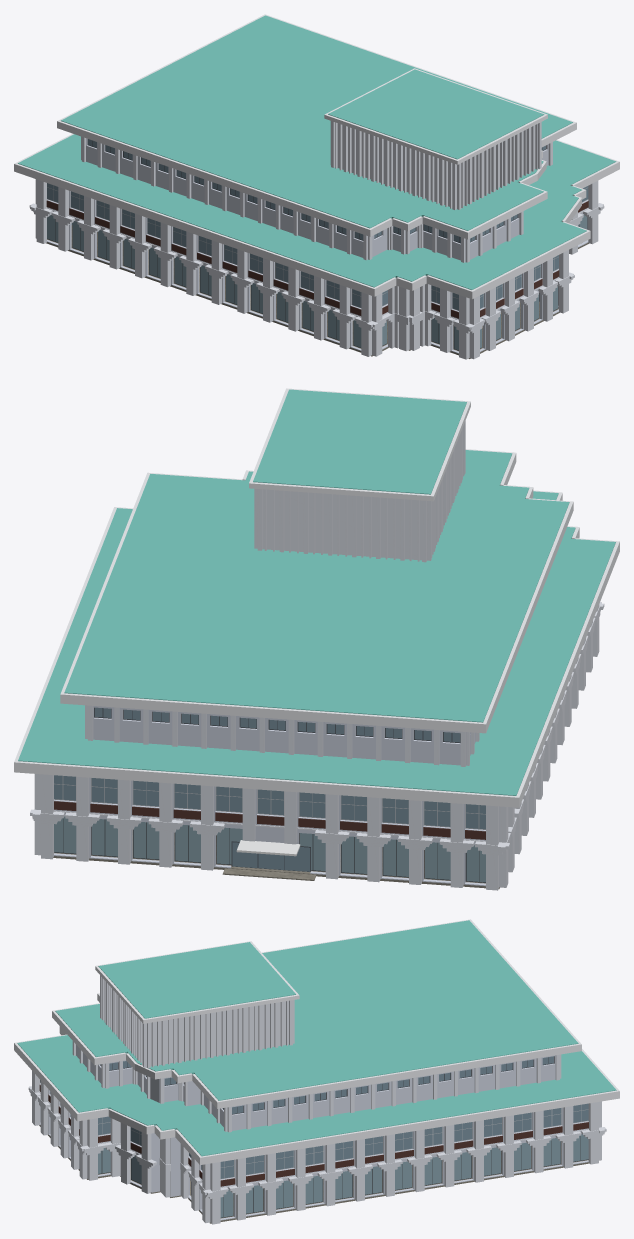
3 views of the same model, one above another, from view 1: azimuth 30°, elevation 25°; view 2: azimuth 150°, elevation 25°; view 3: azimuth 270°, elevation 25° (orthographic). The views are drawn at different scales.
Parts seen in each view (by area): view 1: uac__greenroof, uac__pier, uac__fascia, uac__white, uac__glass, uac__hallglass, uac__spandrel, uac__darkframe, uac__stone, uac__frame; view 2: uac__greenroof, uac__pier, uac__fascia, uac__white, uac__glass, uac__hallglass, uac__spandrel, uac__darkframe, uac__frame, uac__stone, uac__canopy; view 3: uac__greenroof, uac__pier, uac__fascia, uac__white, uac__glass, uac__hallglass, uac__spandrel, uac__darkframe, uac__stone, uac__frame.
Boxes of the visible parts, x1=… form: uac__greenroof: x1=18, y1=15, x2=616, y2=289; uac__pier: x1=29, y1=121, x2=604, y2=359; uac__fascia: x1=14, y1=14, x2=619, y2=299; uac__white: x1=47, y1=138, x2=588, y2=357; uac__glass: x1=47, y1=139, x2=588, y2=310; uac__hallglass: x1=47, y1=214, x2=587, y2=350; uac__spandrel: x1=46, y1=200, x2=588, y2=318; uac__darkframe: x1=47, y1=139, x2=587, y2=350; uac__stone: x1=46, y1=225, x2=589, y2=358; uac__frame: x1=47, y1=185, x2=588, y2=310; uac__greenroof: x1=18, y1=389, x2=615, y2=795; uac__pier: x1=30, y1=421, x2=604, y2=890; uac__fascia: x1=14, y1=388, x2=619, y2=807; uac__white: x1=54, y1=706, x2=499, y2=886; uac__glass: x1=54, y1=707, x2=485, y2=871; uac__hallglass: x1=54, y1=816, x2=485, y2=882; uac__spandrel: x1=54, y1=801, x2=485, y2=839; uac__darkframe: x1=54, y1=707, x2=485, y2=882; uac__frame: x1=54, y1=776, x2=485, y2=829; uac__stone: x1=53, y1=830, x2=499, y2=888; uac__canopy: x1=236, y1=840, x2=300, y2=856; uac__greenroof: x1=17, y1=920, x2=616, y2=1156; uac__pier: x1=28, y1=975, x2=606, y2=1224; uac__fascia: x1=14, y1=919, x2=619, y2=1164; uac__white: x1=40, y1=1045, x2=588, y2=1221; uac__glass: x1=40, y1=1056, x2=588, y2=1178; uac__hallglass: x1=98, y1=1134, x2=588, y2=1217; uac__spandrel: x1=39, y1=1085, x2=588, y2=1186; uac__darkframe: x1=98, y1=1056, x2=588, y2=1217; uac__stone: x1=39, y1=1125, x2=589, y2=1223; uac__frame: x1=40, y1=1080, x2=588, y2=1179.
Bounding box in the file's own units: 68.96 × 24.82 × 82.11.
Materials: 12 (3 with a texture image).
